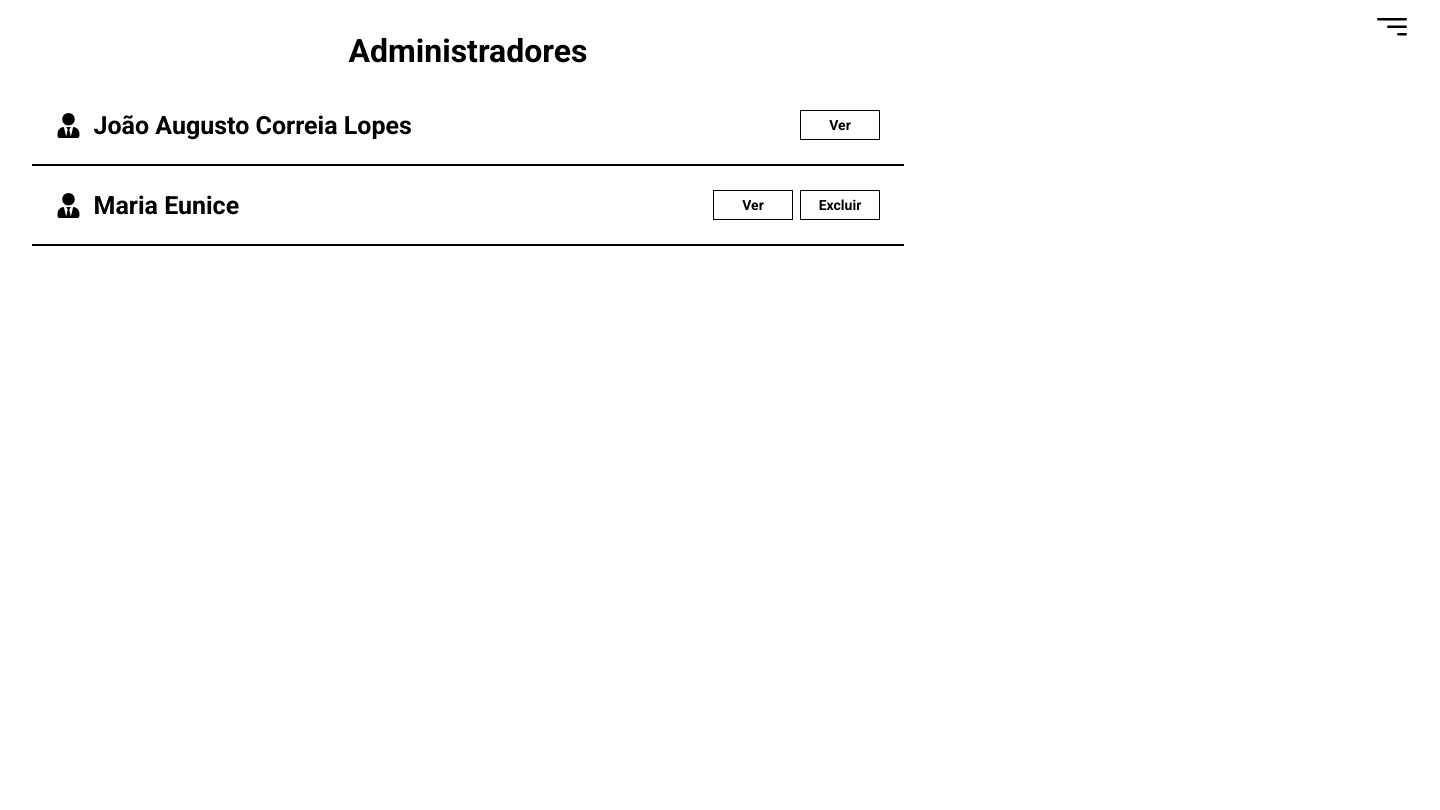
Test: usersAdm › Close warning delete
Click the button "Excluir": {"x": 840, "y": 205} [800, 190, 880, 220]
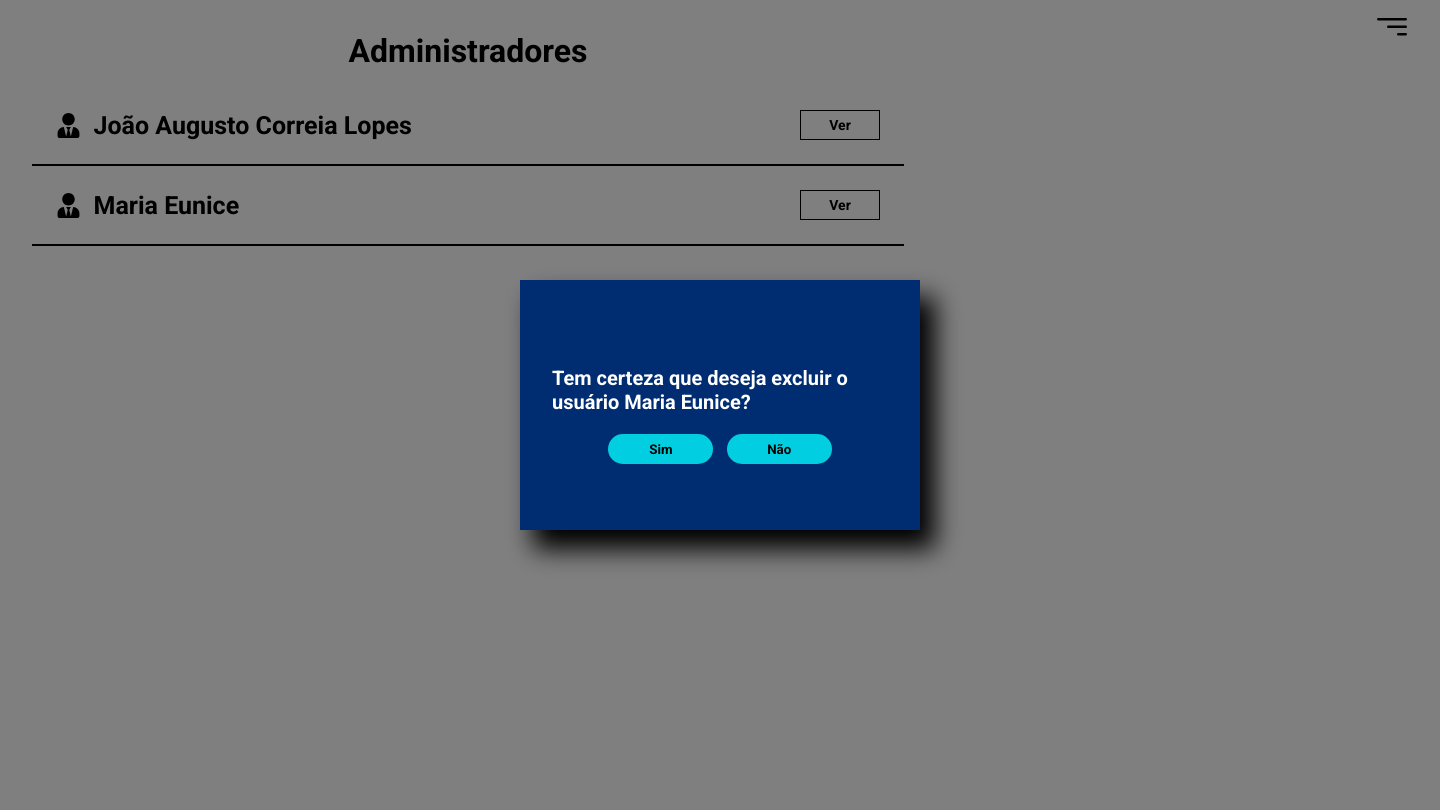
Now the text "Tem certeza que deseja excluir o usuário Maria Eunice?" is shown, box [552, 366, 848, 414]
Now the button "Sim" is shown, box [608, 434, 713, 464]
Now the button "Não" is shown
Click the button "Não": {"x": 779, "y": 449} [727, 434, 832, 464]
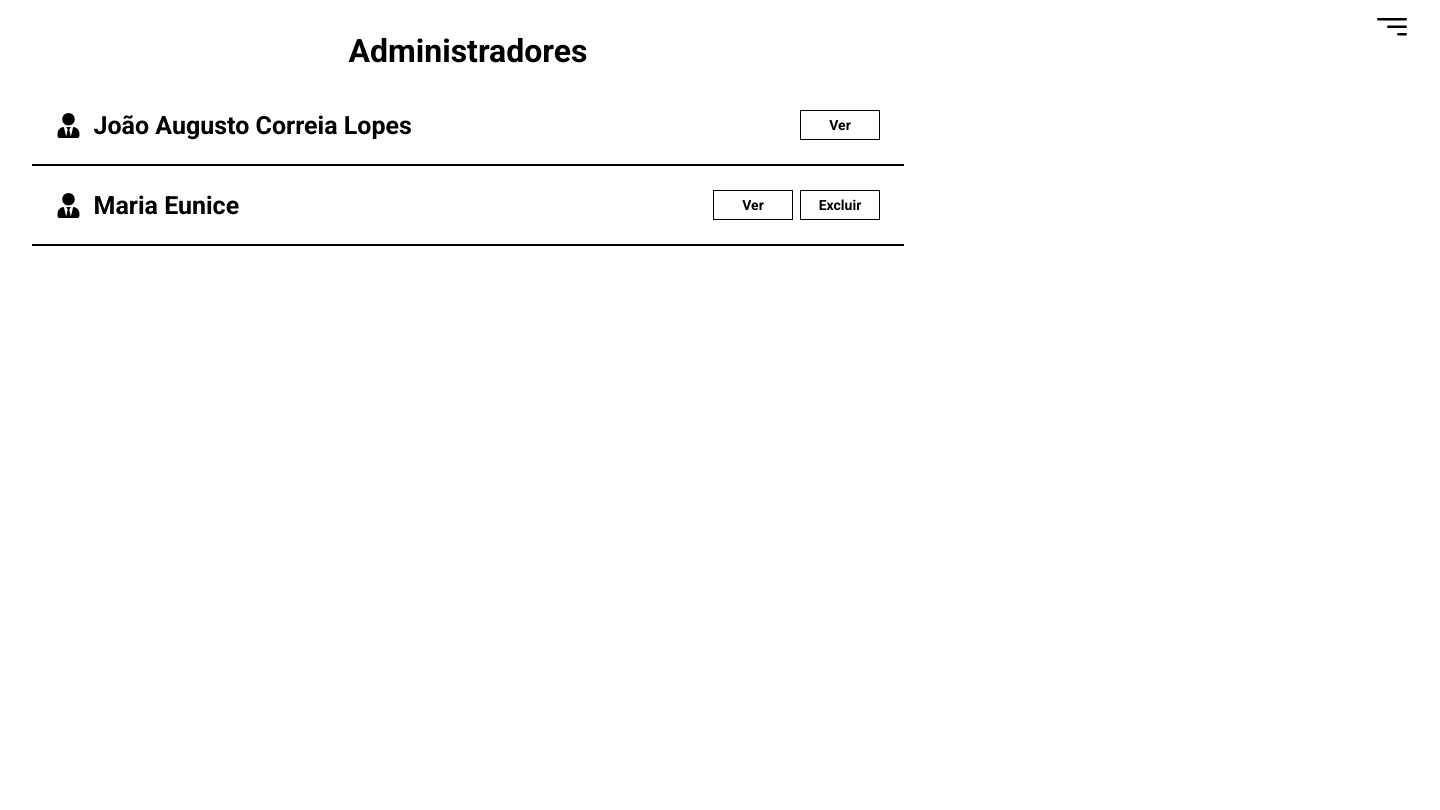
Now the text "Tem certeza que deseja excluir o usuário Maria Eunice?" is gone
